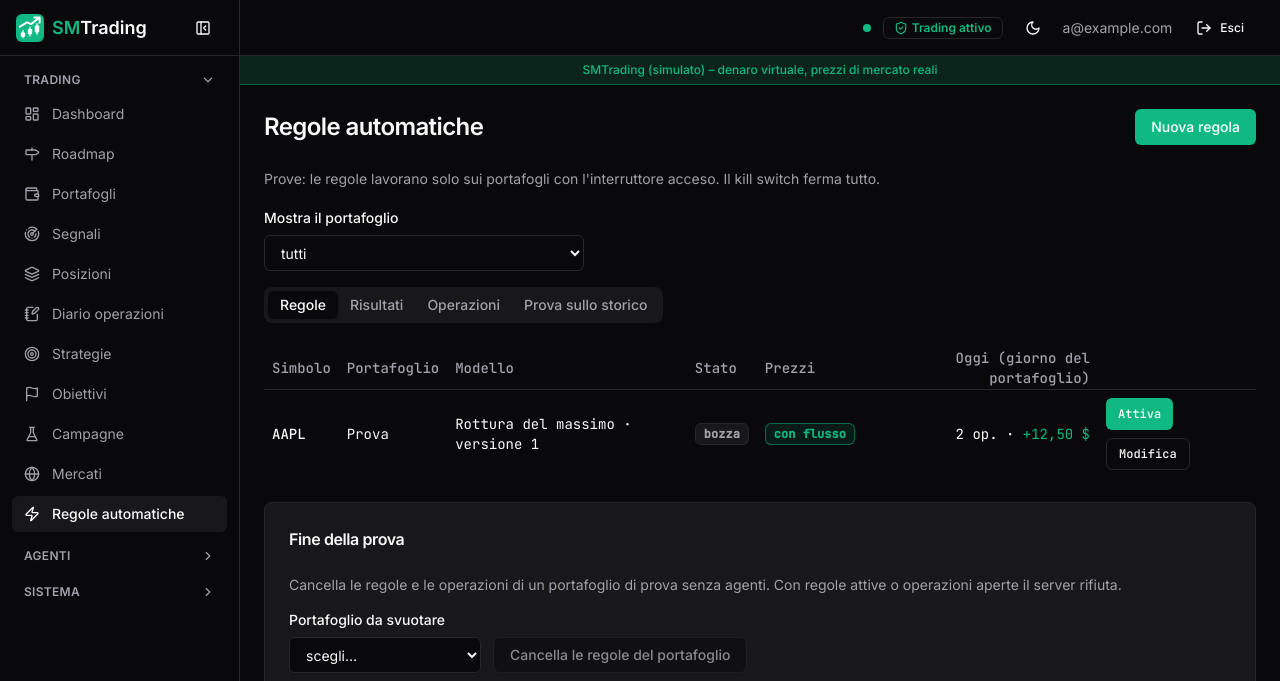
AutoRules › refuses a value outside the catalog's bounds in the page, without posting
Click the button "Nuova regola".
click(1196, 127)  # box [1135, 109, 1256, 145]
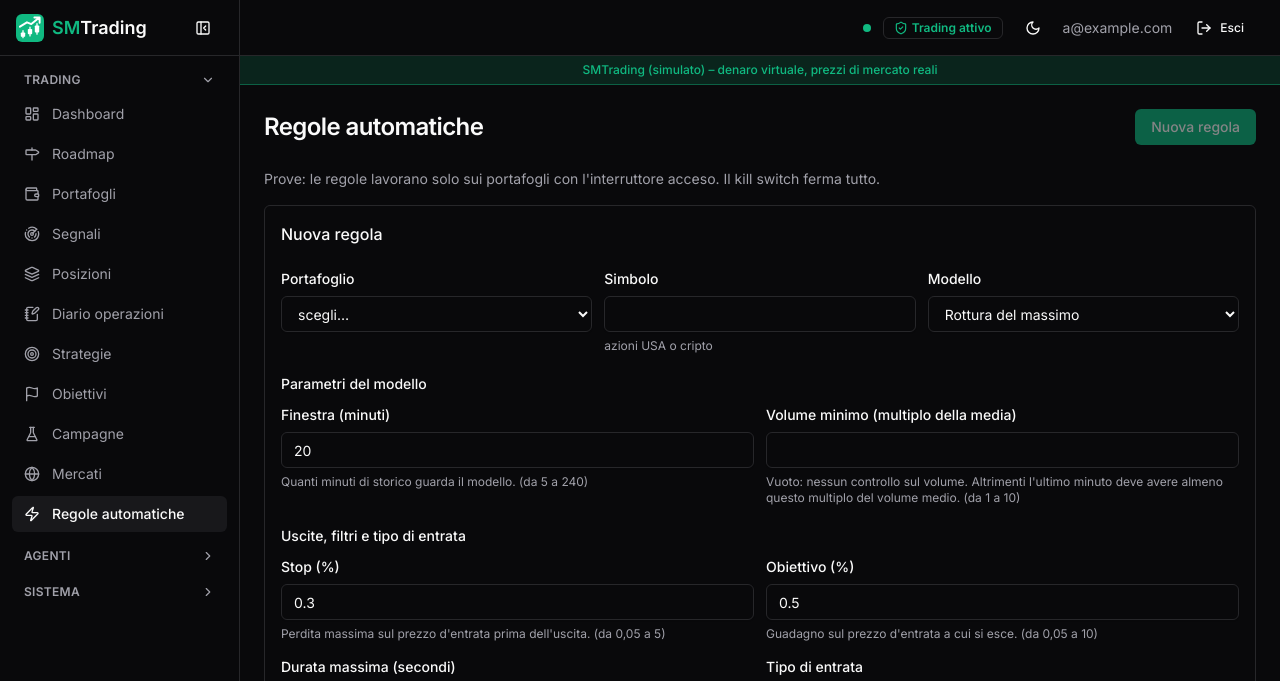
Select "Prova" in the dropdown labelled "Portafoglio" at (437,314), box [281, 296, 592, 332]
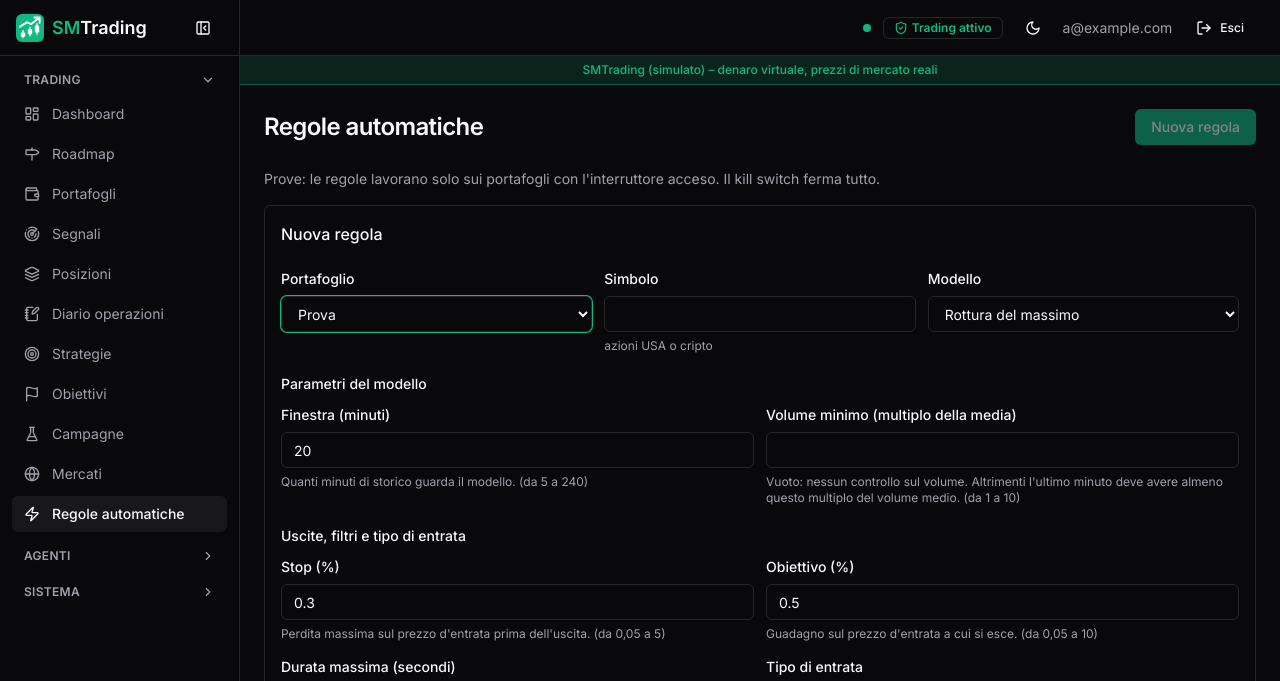
Type "AAPL" into the field labelled "Simbolo".
click(760, 314); type("AAPL")  # box [604, 296, 916, 332]
(page scrolled)
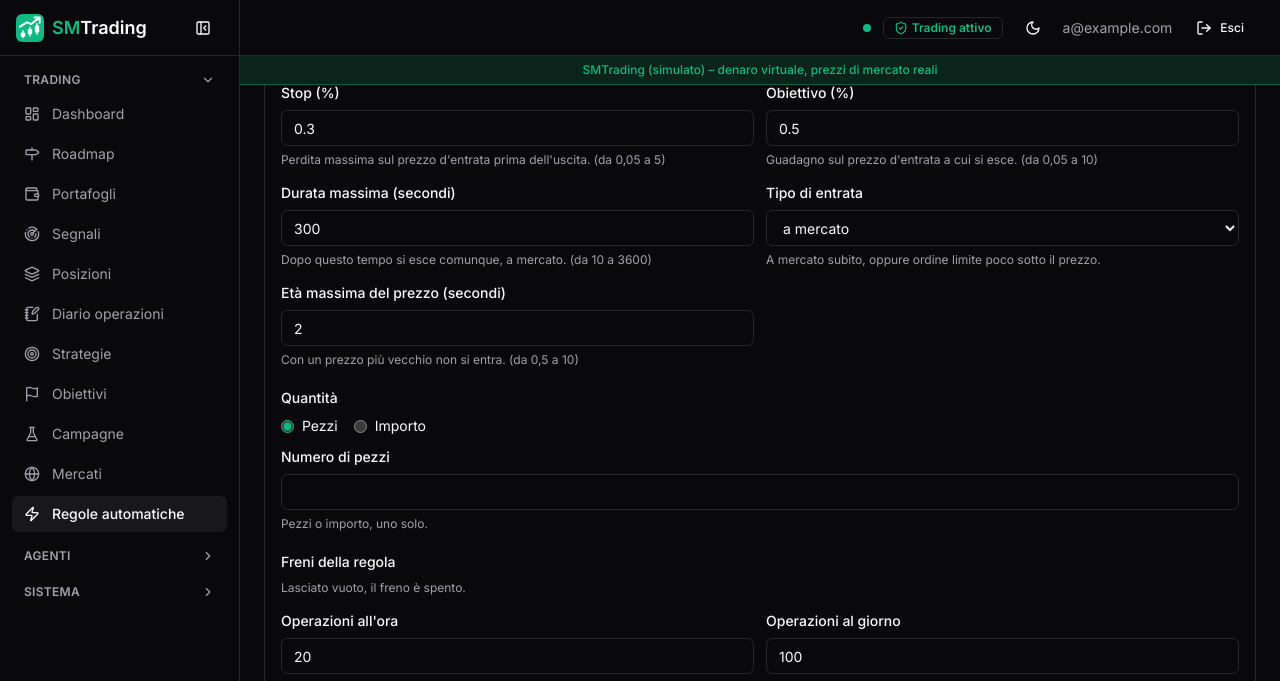
Type "5" into the field labelled "Numero di pezzi".
click(760, 492); type("5")  # box [281, 474, 1239, 510]
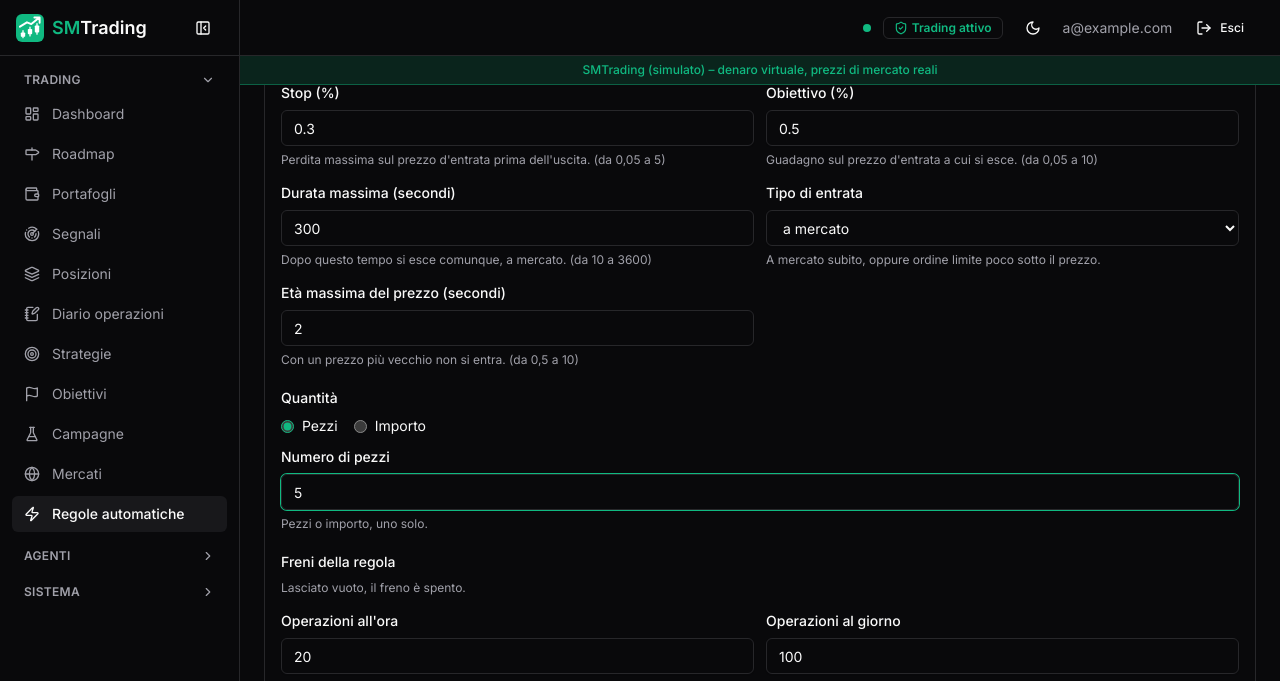
Replace the text in the field labelled "Stop (%)" with "9" at (518,128), box [281, 110, 754, 146]
(page scrolled)
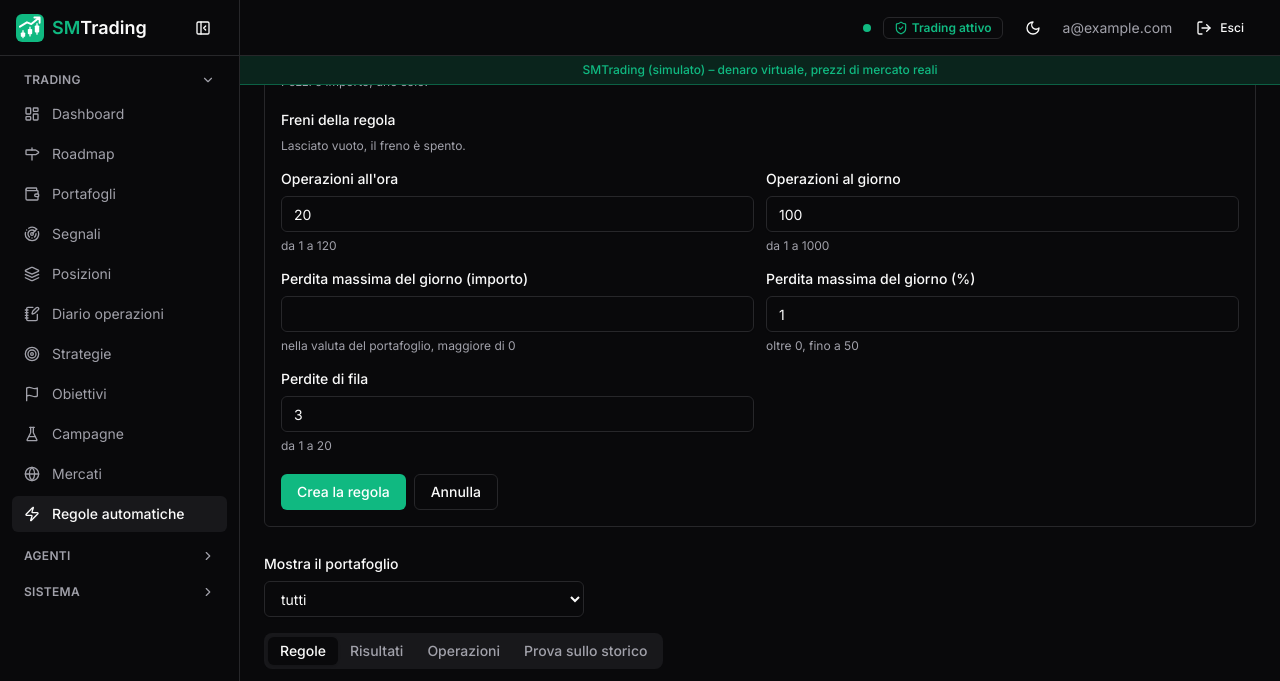
Click the button "Crea la regola".
click(343, 492)  # box [281, 474, 406, 510]
(page scrolled)
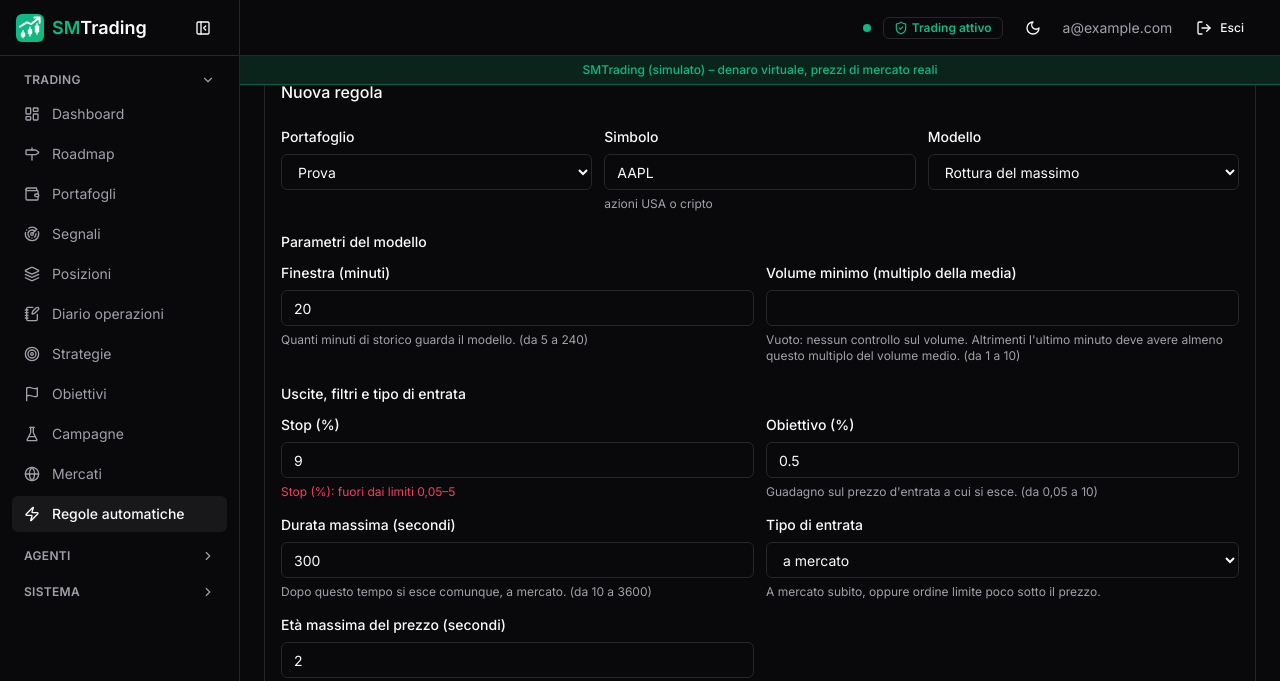
Expected: the text "Stop (%): fuori dai limiti 0,05–5" is shown, [281, 484, 456, 499]
